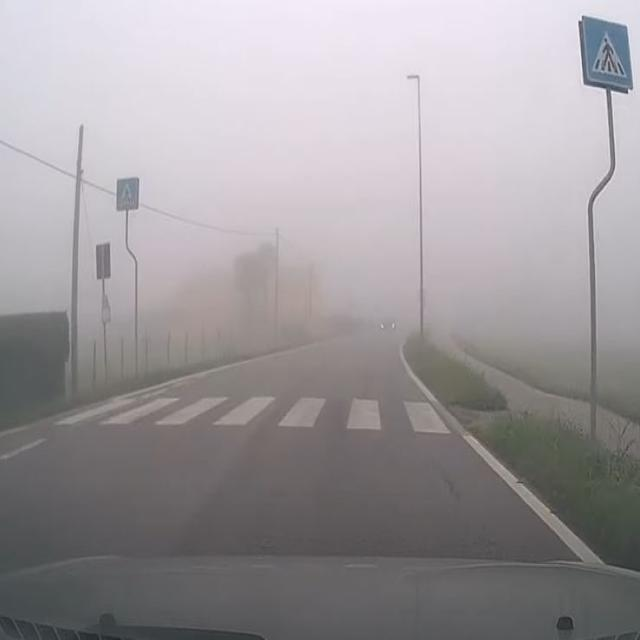Pedestrian crosswalk: (70, 378, 444, 443), (581, 12, 631, 92), (115, 177, 141, 211)
